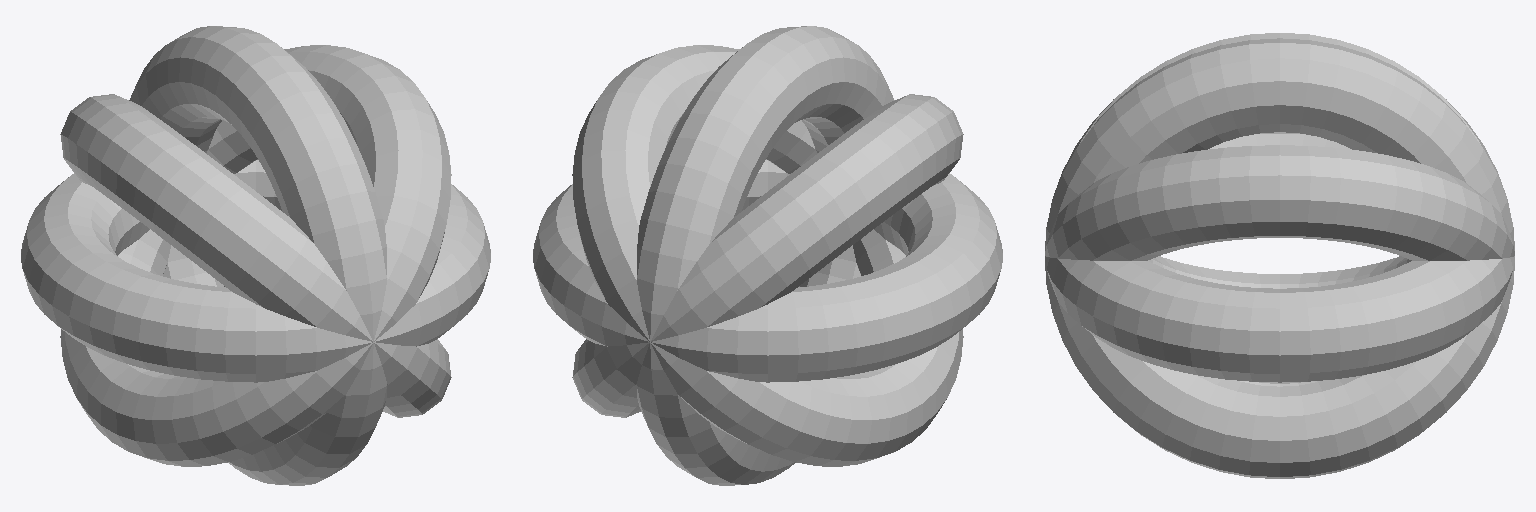
Rendered from torus-ball.obj.
3 views of the same model, side by side, from view 1: azimuth 30°, elevation 25°; view 2: azimuth 150°, elevation 25°; view 3: azimuth 270°, elevation 25° (orthographic).
Visible parts, largest first — view 1: Torus.002, Torus.003, Torus, Torus.004; view 2: Torus.002, Torus.003, Torus, Torus.004; view 3: Torus.002, Torus, Torus.003, Torus.004.
Boxes of the visible parts, box(x1,y1,x2,y2) form: Torus.002: box(60, 45, 451, 466); Torus.003: box(129, 26, 386, 485); Torus: box(21, 160, 490, 382); Torus.004: box(60, 94, 451, 417); Torus.002: box(572, 45, 963, 466); Torus.003: box(637, 26, 894, 485); Torus: box(533, 160, 1002, 382); Torus.004: box(572, 94, 963, 417); Torus.002: box(1045, 145, 1514, 288); Torus: box(1045, 132, 1514, 382); Torus.003: box(1045, 38, 1514, 386); Torus.004: box(1045, 33, 1514, 478).
Size of the model in its own units: 2.5 by 2.5 by 2.5.